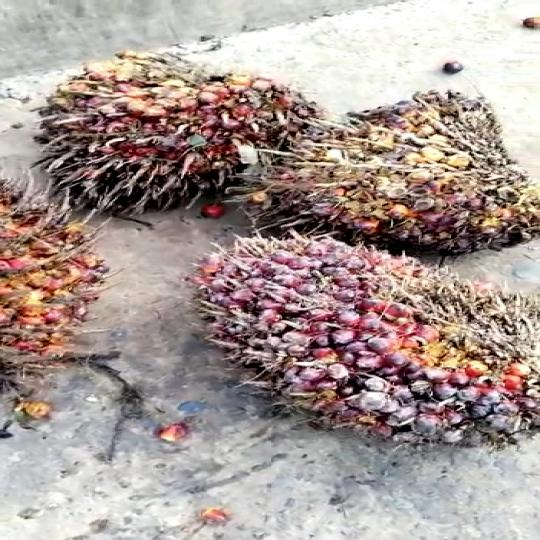masak: (179, 218, 540, 463), (22, 43, 304, 222), (261, 88, 540, 260)
